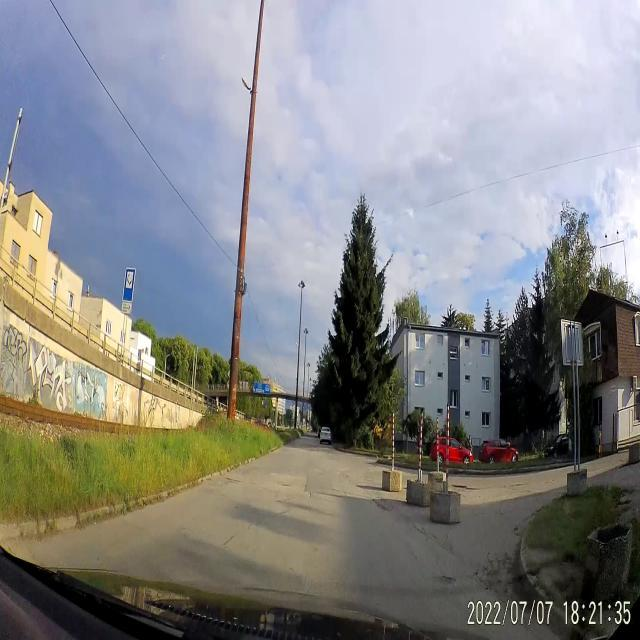Pothole: (450, 479, 476, 492)
